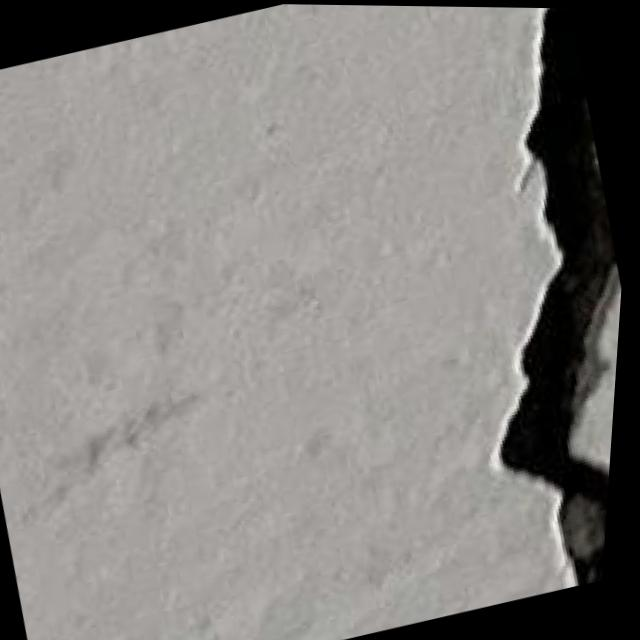Crack: (375, 5, 640, 597)
